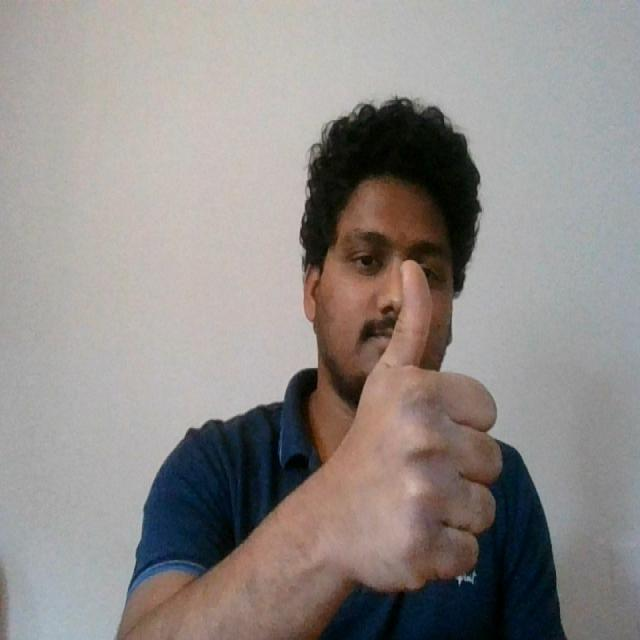Yes: (318, 255, 506, 595)
